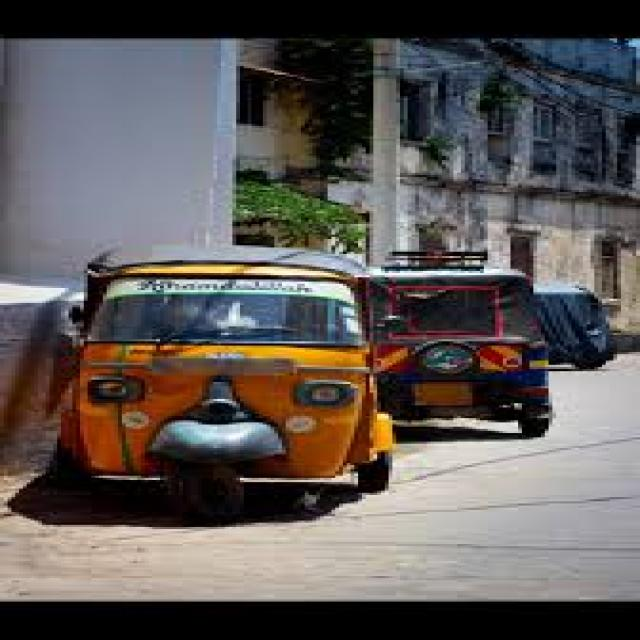tuktuk: (23, 148, 440, 542)
